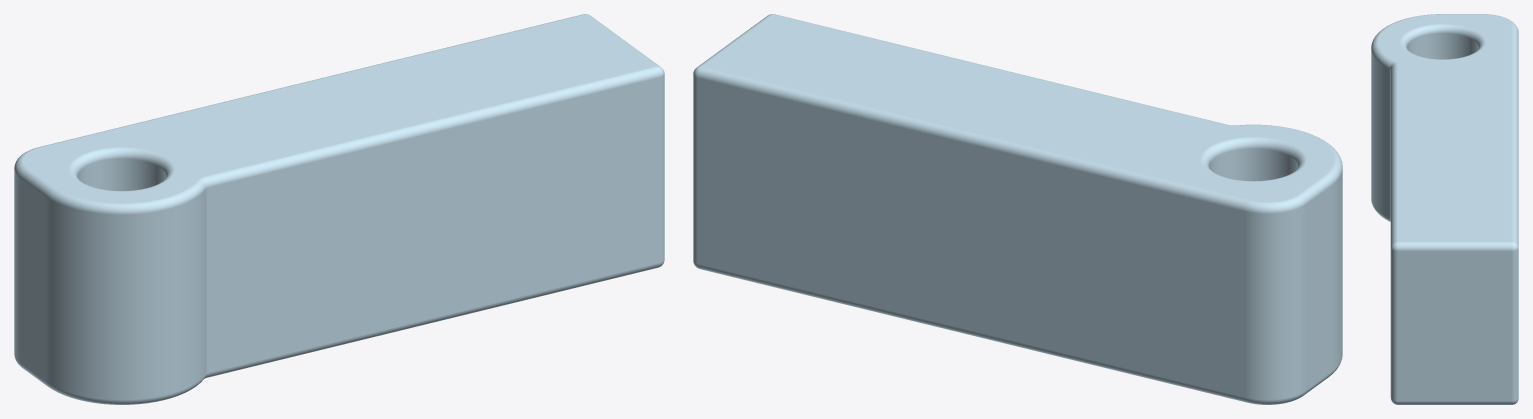
Rendered from Joint3.gltf.
The picture shows the model from 3 angles, left to right: view 1: azimuth 30°, elevation 25°; view 2: azimuth 150°, elevation 25°; view 3: azimuth 270°, elevation 25°; orthographic projection. The views are drawn at different scales.
Parts seen in each view (by area): view 1: Part 1; view 2: Part 1; view 3: Part 1.
Part boxes in pixels (x1=…): Part 1: x1=14, y1=14, x2=664, y2=404; Part 1: x1=693, y1=14, x2=1342, y2=404; Part 1: x1=1371, y1=14, x2=1518, y2=404.
Bounding box in the file's own units: 0.0769 × 0.025 × 0.0206.
